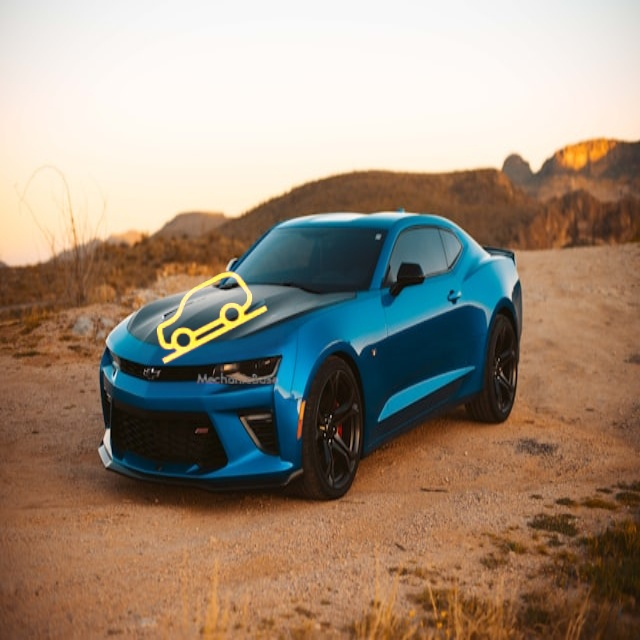symbol: (141, 248, 284, 391)
